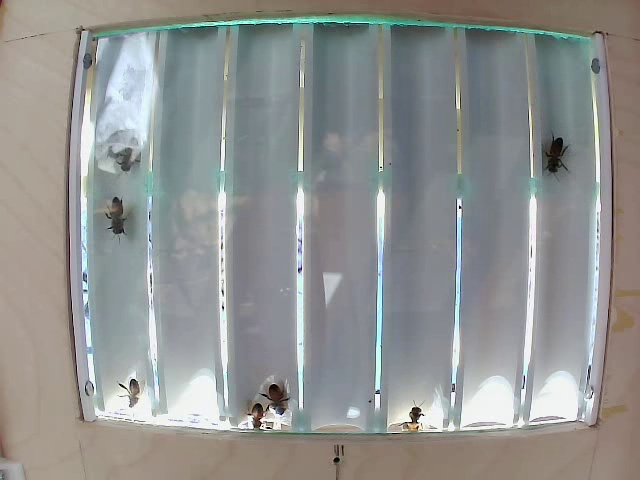bee: (95, 189, 156, 248), (537, 136, 566, 187)
